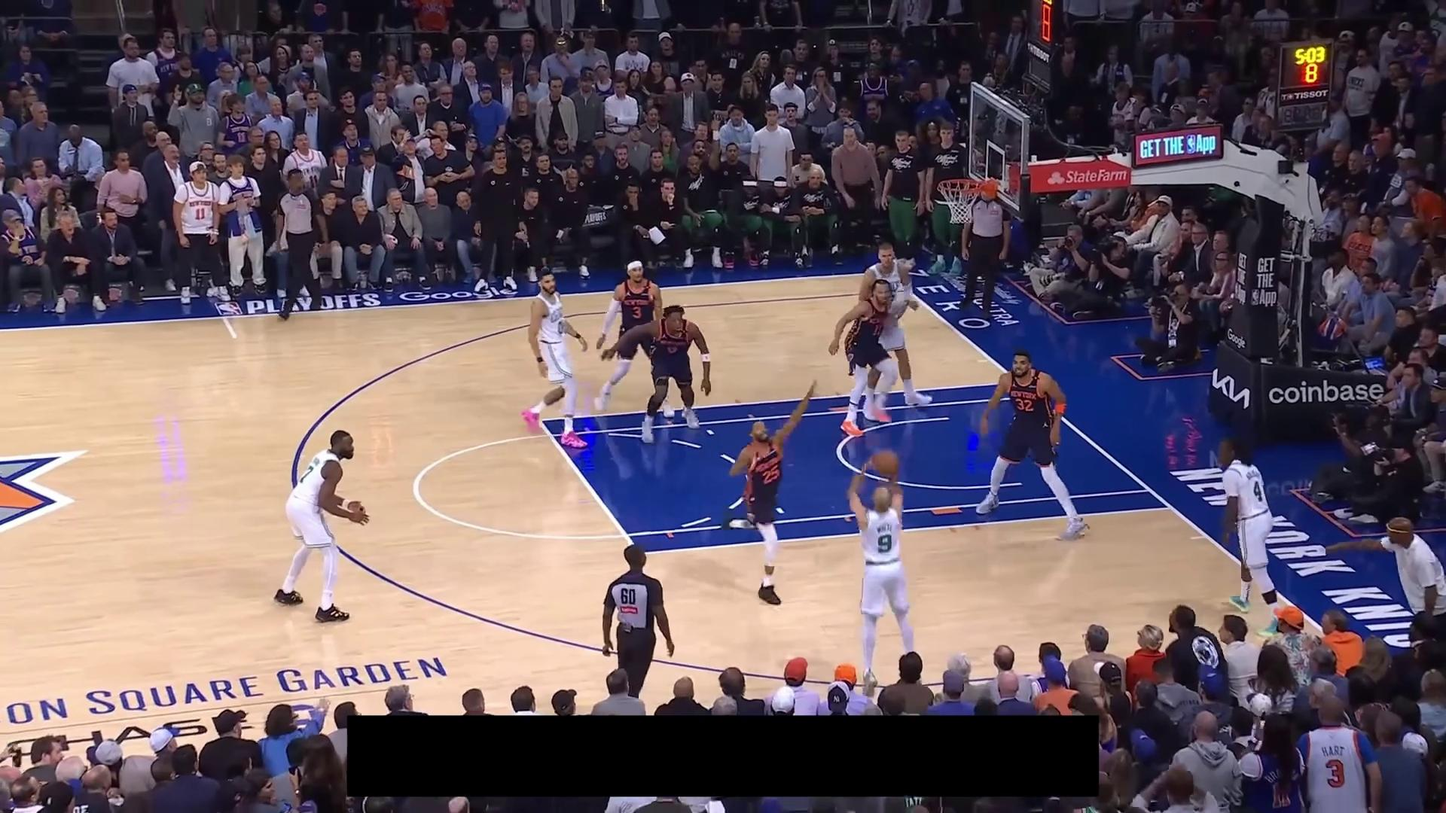ball: (871, 448, 900, 477)
number: (764, 464, 781, 485), (299, 464, 315, 484), (1015, 397, 1033, 413), (877, 534, 892, 553), (1252, 480, 1264, 502), (632, 305, 642, 319)
player: (974, 346, 1090, 543), (272, 428, 371, 623), (597, 303, 715, 446), (1217, 435, 1290, 641), (827, 278, 915, 436), (852, 241, 933, 411), (593, 257, 676, 420), (519, 268, 591, 449)
player-jump-shot: (846, 446, 914, 694)
player-shot-block: (718, 375, 819, 607)
referee: (602, 544, 676, 699), (273, 169, 329, 319), (959, 194, 1011, 317)
rim: (937, 178, 984, 193)
